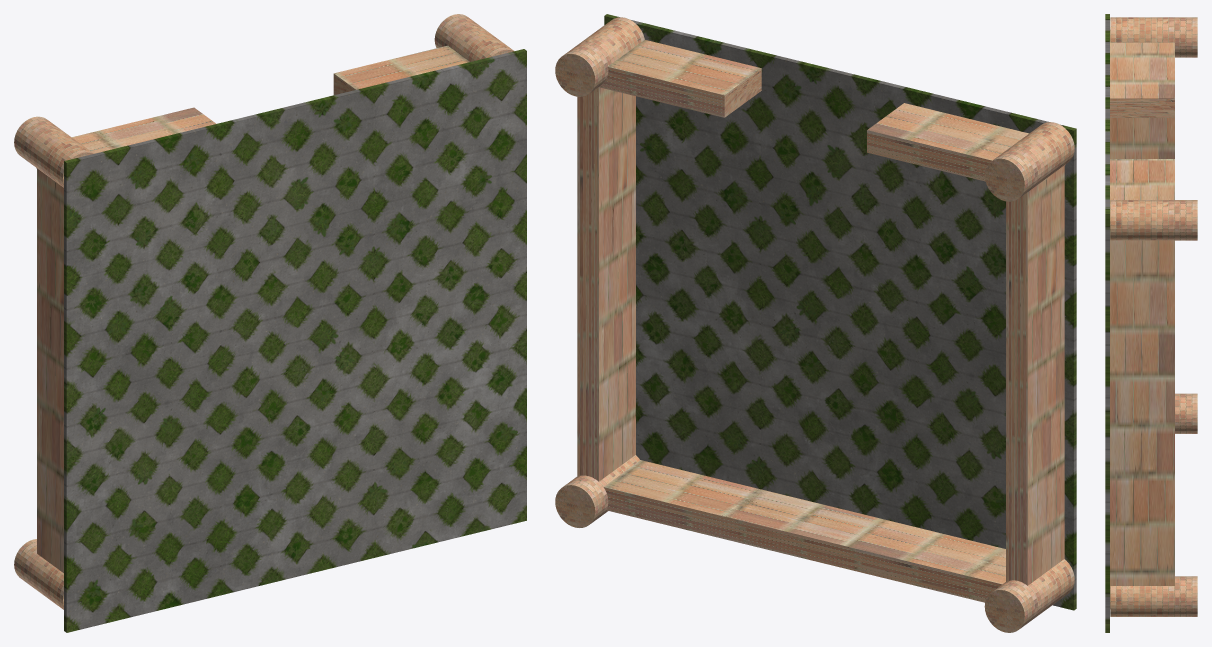
File: parque.fbx
3 views of the same model, side by side, from view 1: azimuth 30°, elevation 25°; view 2: azimuth 150°, elevation 25°; view 3: azimuth 270°, elevation 25° (orthographic). The views are drawn at different scales.
Parts seen in each view (by area): view 1: parque; view 2: parque; view 3: parque.
Boxes of the visible parts, <box> form: parque: <box>14,14,526,632</box>; parque: <box>555,14,1076,632</box>; parque: <box>1105,14,1197,632</box>.
Bounding box in the file's own units: 76.37 × 74.93 × 14.86.
